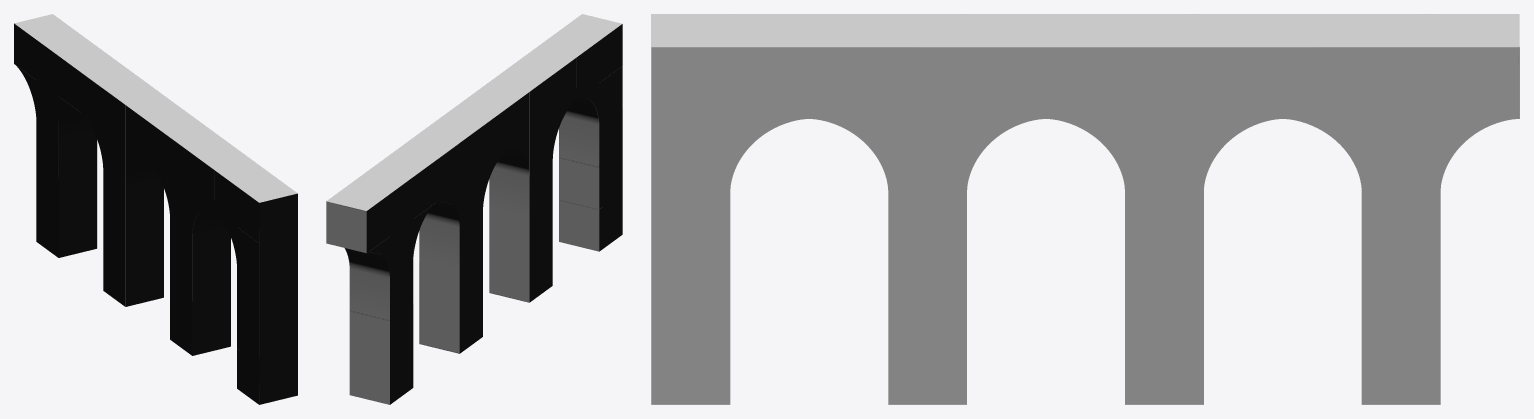
Rendered from corridor_1.glb.
The picture shows the model from 3 angles, left to right: view 1: azimuth 30°, elevation 25°; view 2: azimuth 150°, elevation 25°; view 3: azimuth 270°, elevation 25°; orthographic projection. The views are drawn at different scales.
Visible parts, largest first — view 1: 立方体.019; view 2: 立方体.019; view 3: 立方体.019.
Part boxes in pixels (left/top/right/bottom): 立方体.019: left=14, top=14, right=297, bottom=404; 立方体.019: left=326, top=14, right=622, bottom=404; 立方体.019: left=651, top=14, right=1519, bottom=404.
Size of the model in its own units: 2 by 10 by 22.
Materials: 1 (1 with a texture image).
